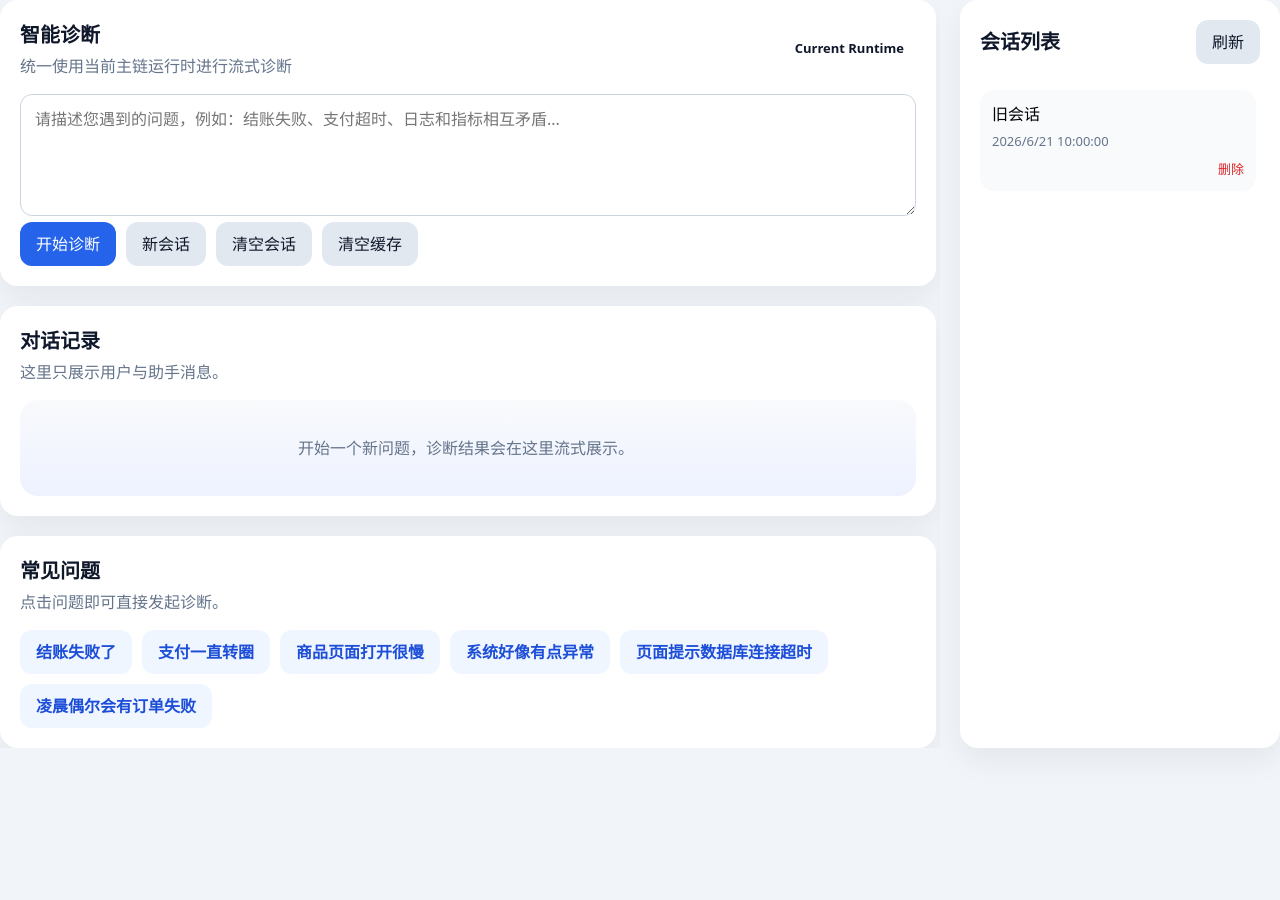
Scenario: DiagnosisPage › 已存在会话没有历史消息时显示空对话提示
Step 1. Click the button "旧会话 2026/6/21 10:00:00" → click(1118, 127), box [992, 102, 1244, 152]
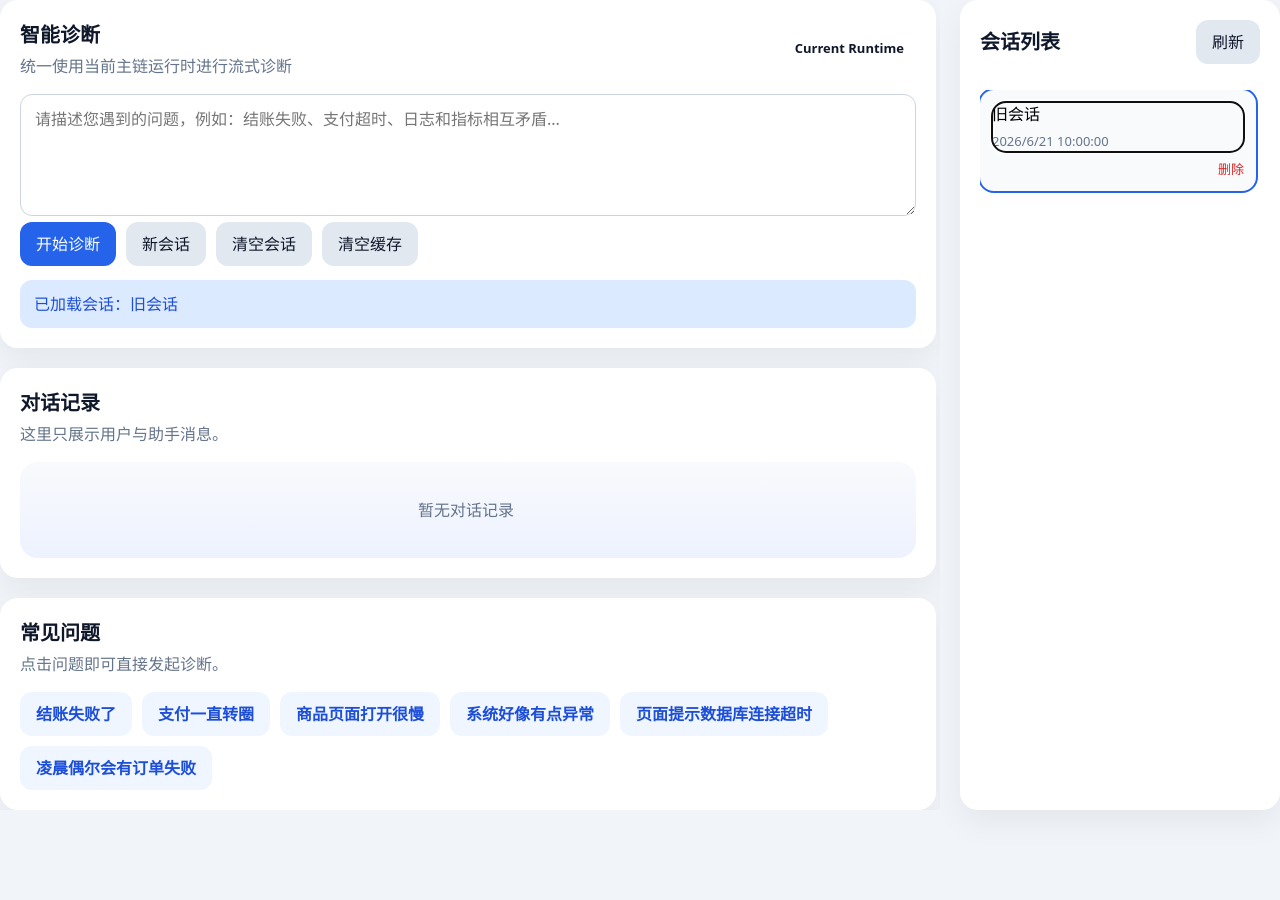
Expected: the text "已加载会话：旧会话" is shown, [20, 280, 916, 328]
Expected: the text "暂无对话记录" is shown, [418, 499, 514, 521]
